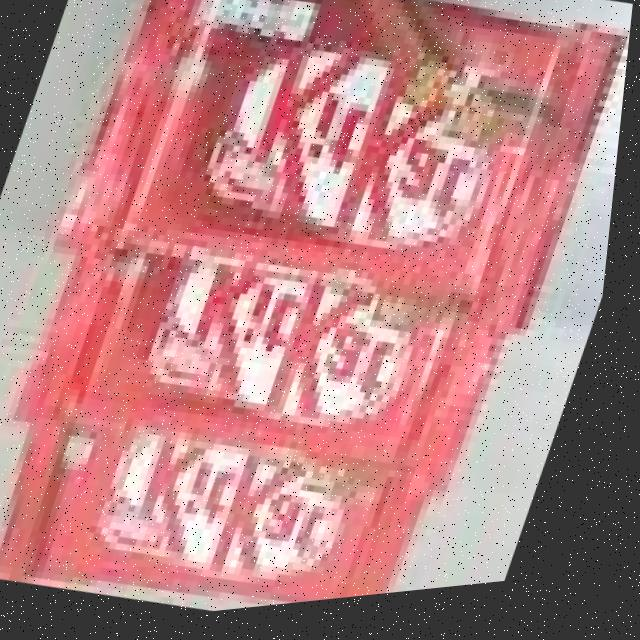kitkat: (40, 0, 640, 376), (15, 184, 543, 534), (0, 368, 468, 637)
